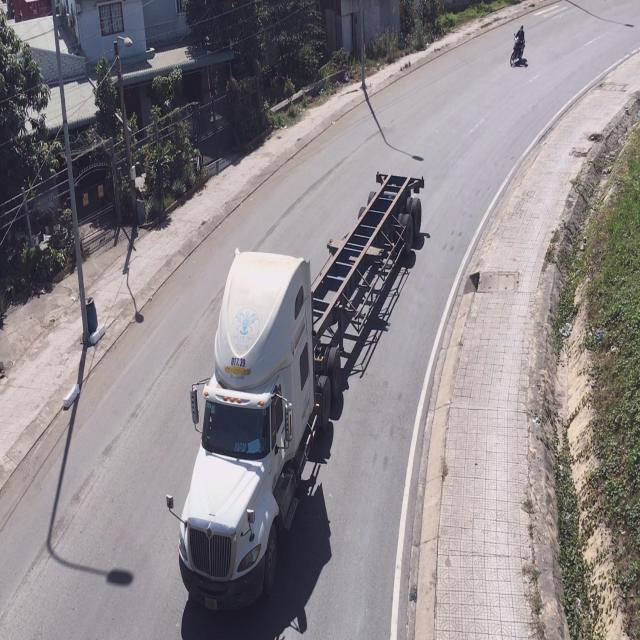motorbike: (511, 22, 528, 72)
truck: (176, 170, 424, 614)
